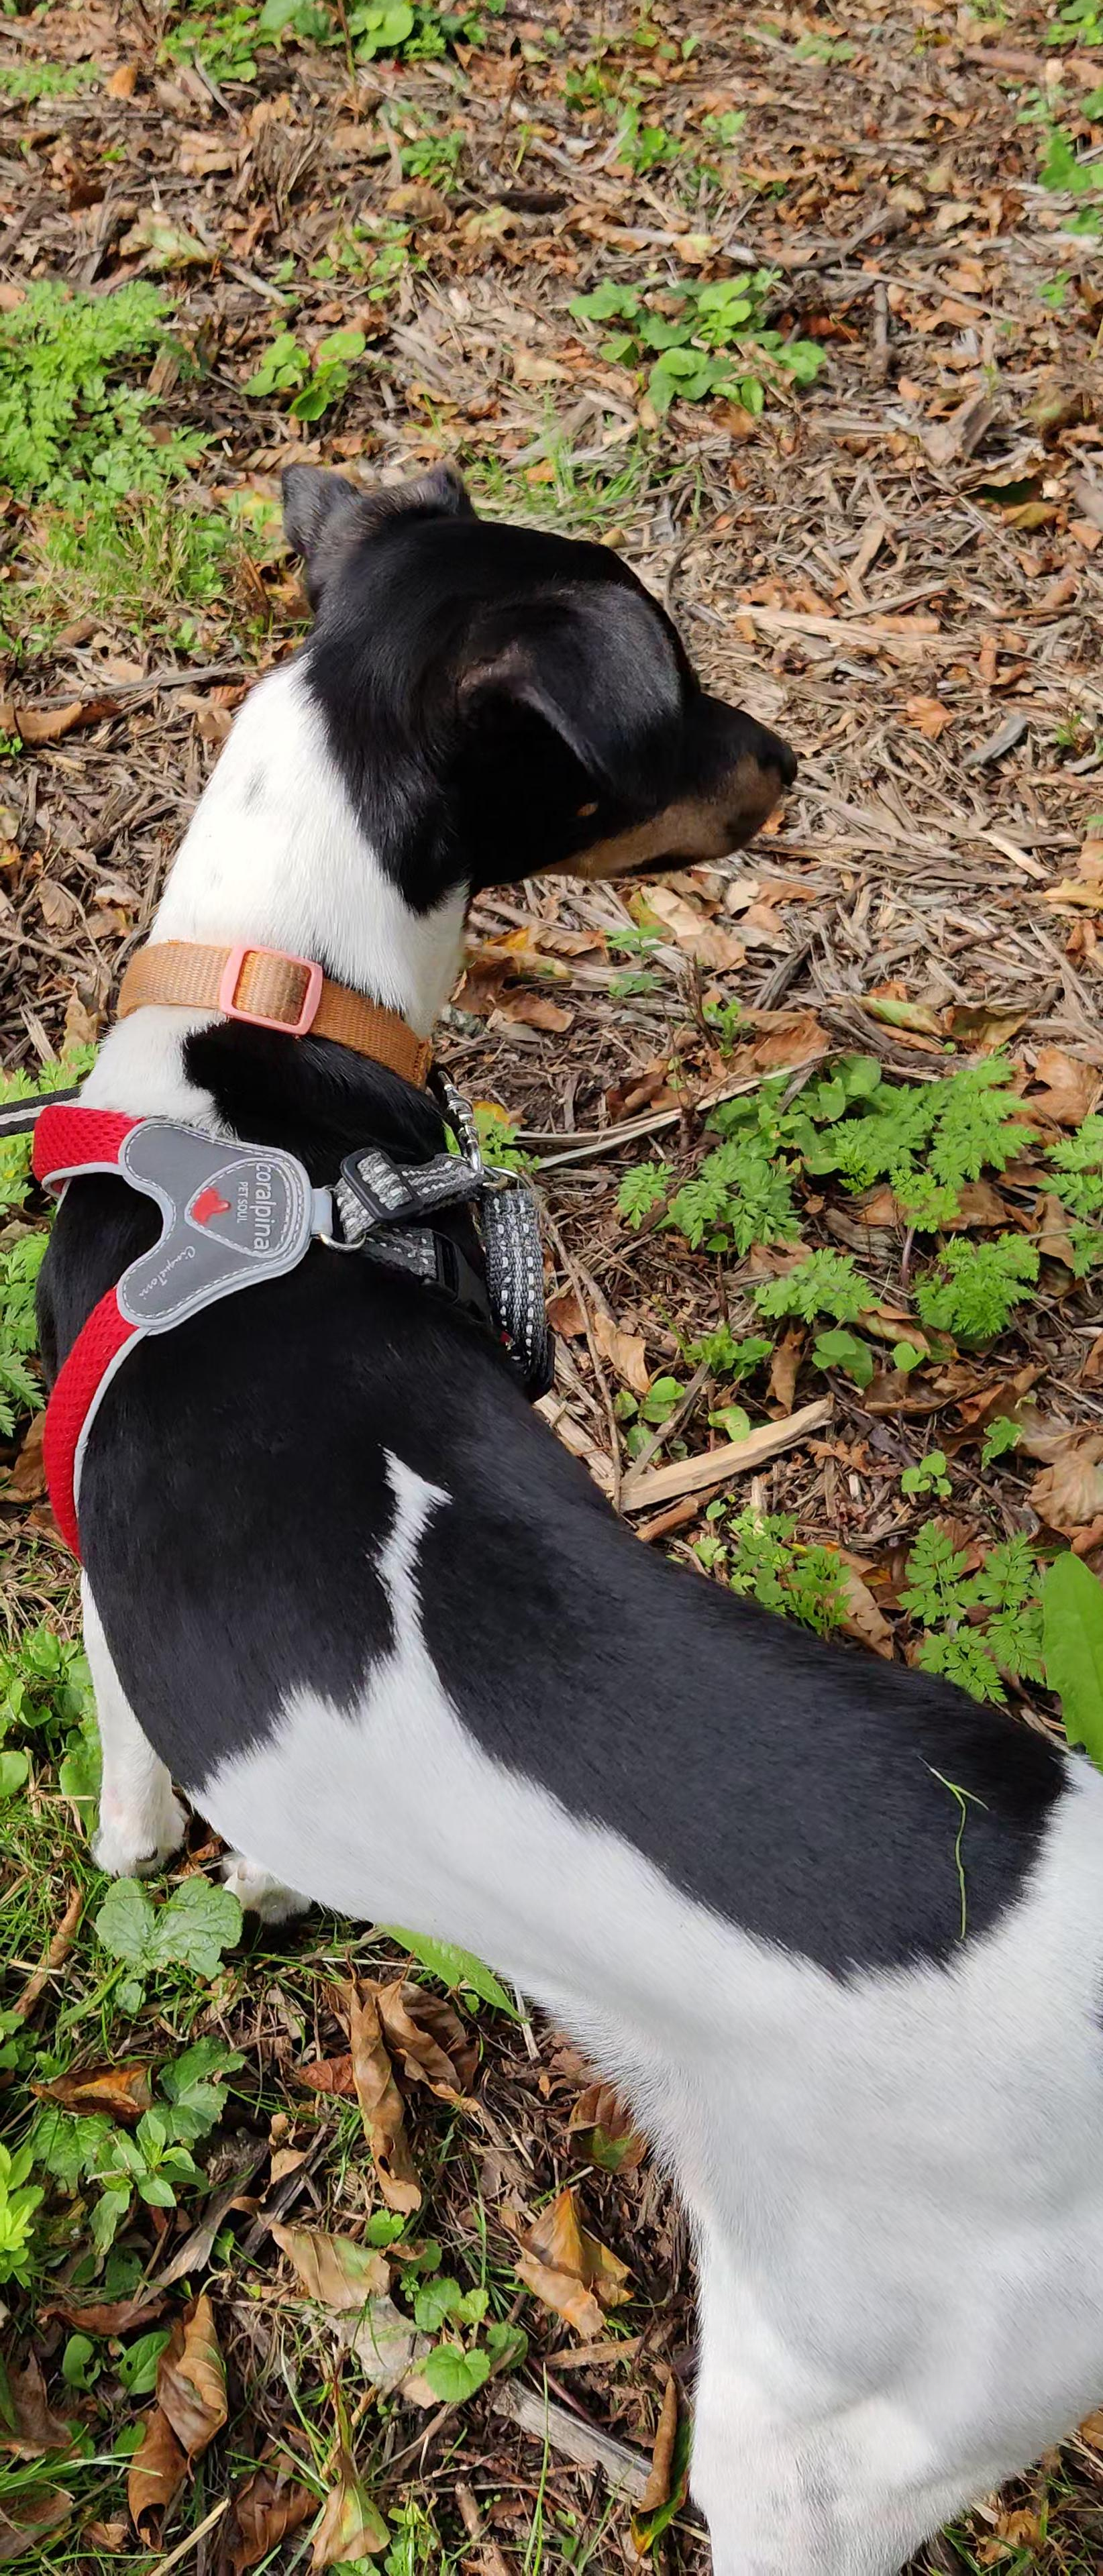Dog: (25, 448, 1103, 2576)
